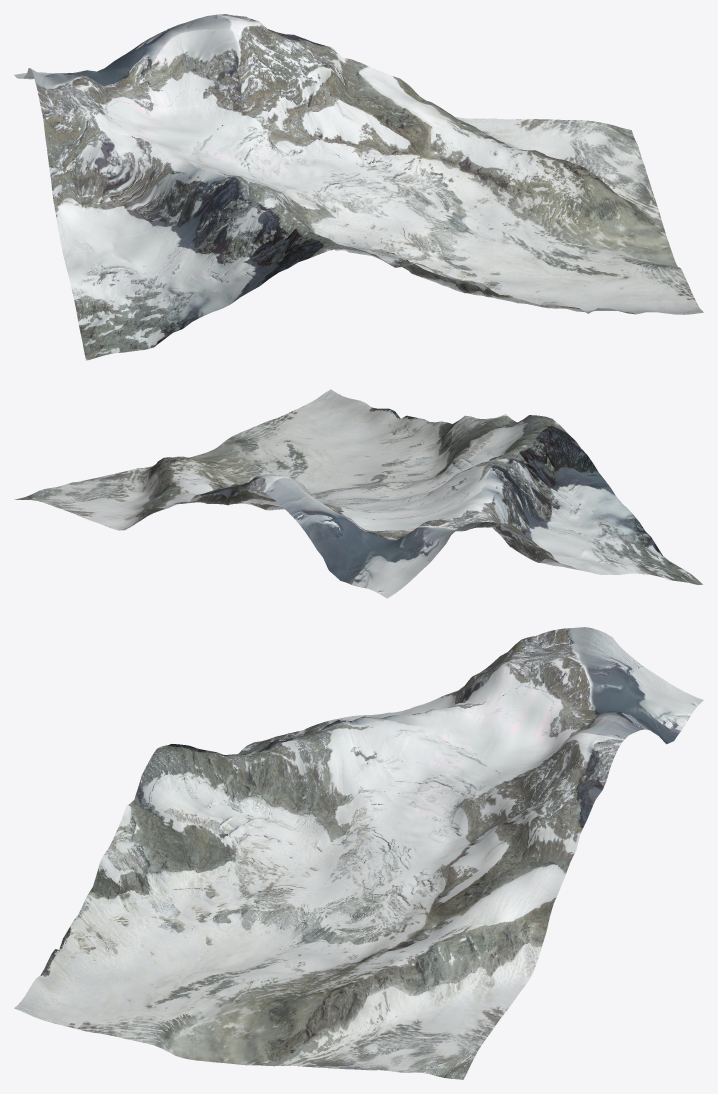
The model's file is SM_GMap_Close02.fbx.
The picture shows the model from 3 angles, top to bottom: view 1: azimuth 30°, elevation 25°; view 2: azimuth 150°, elevation 25°; view 3: azimuth 270°, elevation 25°; orthographic projection. The views are drawn at different scales.
Visible parts, largest first — view 1: SM_GMap_Close02; view 2: SM_GMap_Close02; view 3: SM_GMap_Close02.
Boxes of the visible parts, <box> form: SM_GMap_Close02: <box>14,14,703,360</box>; SM_GMap_Close02: <box>14,389,703,598</box>; SM_GMap_Close02: <box>14,627,703,1079</box>.
Size of the model in its own units: 1070245 by 271062 by 911034.
